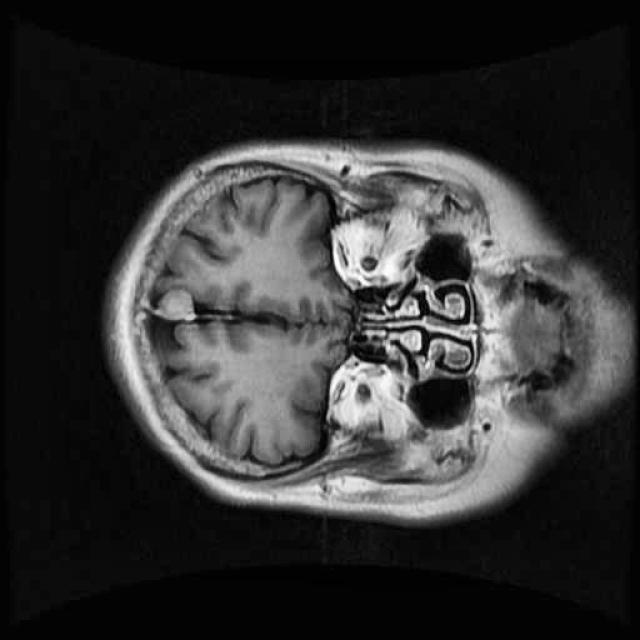Tumor: (148, 279, 209, 336)
